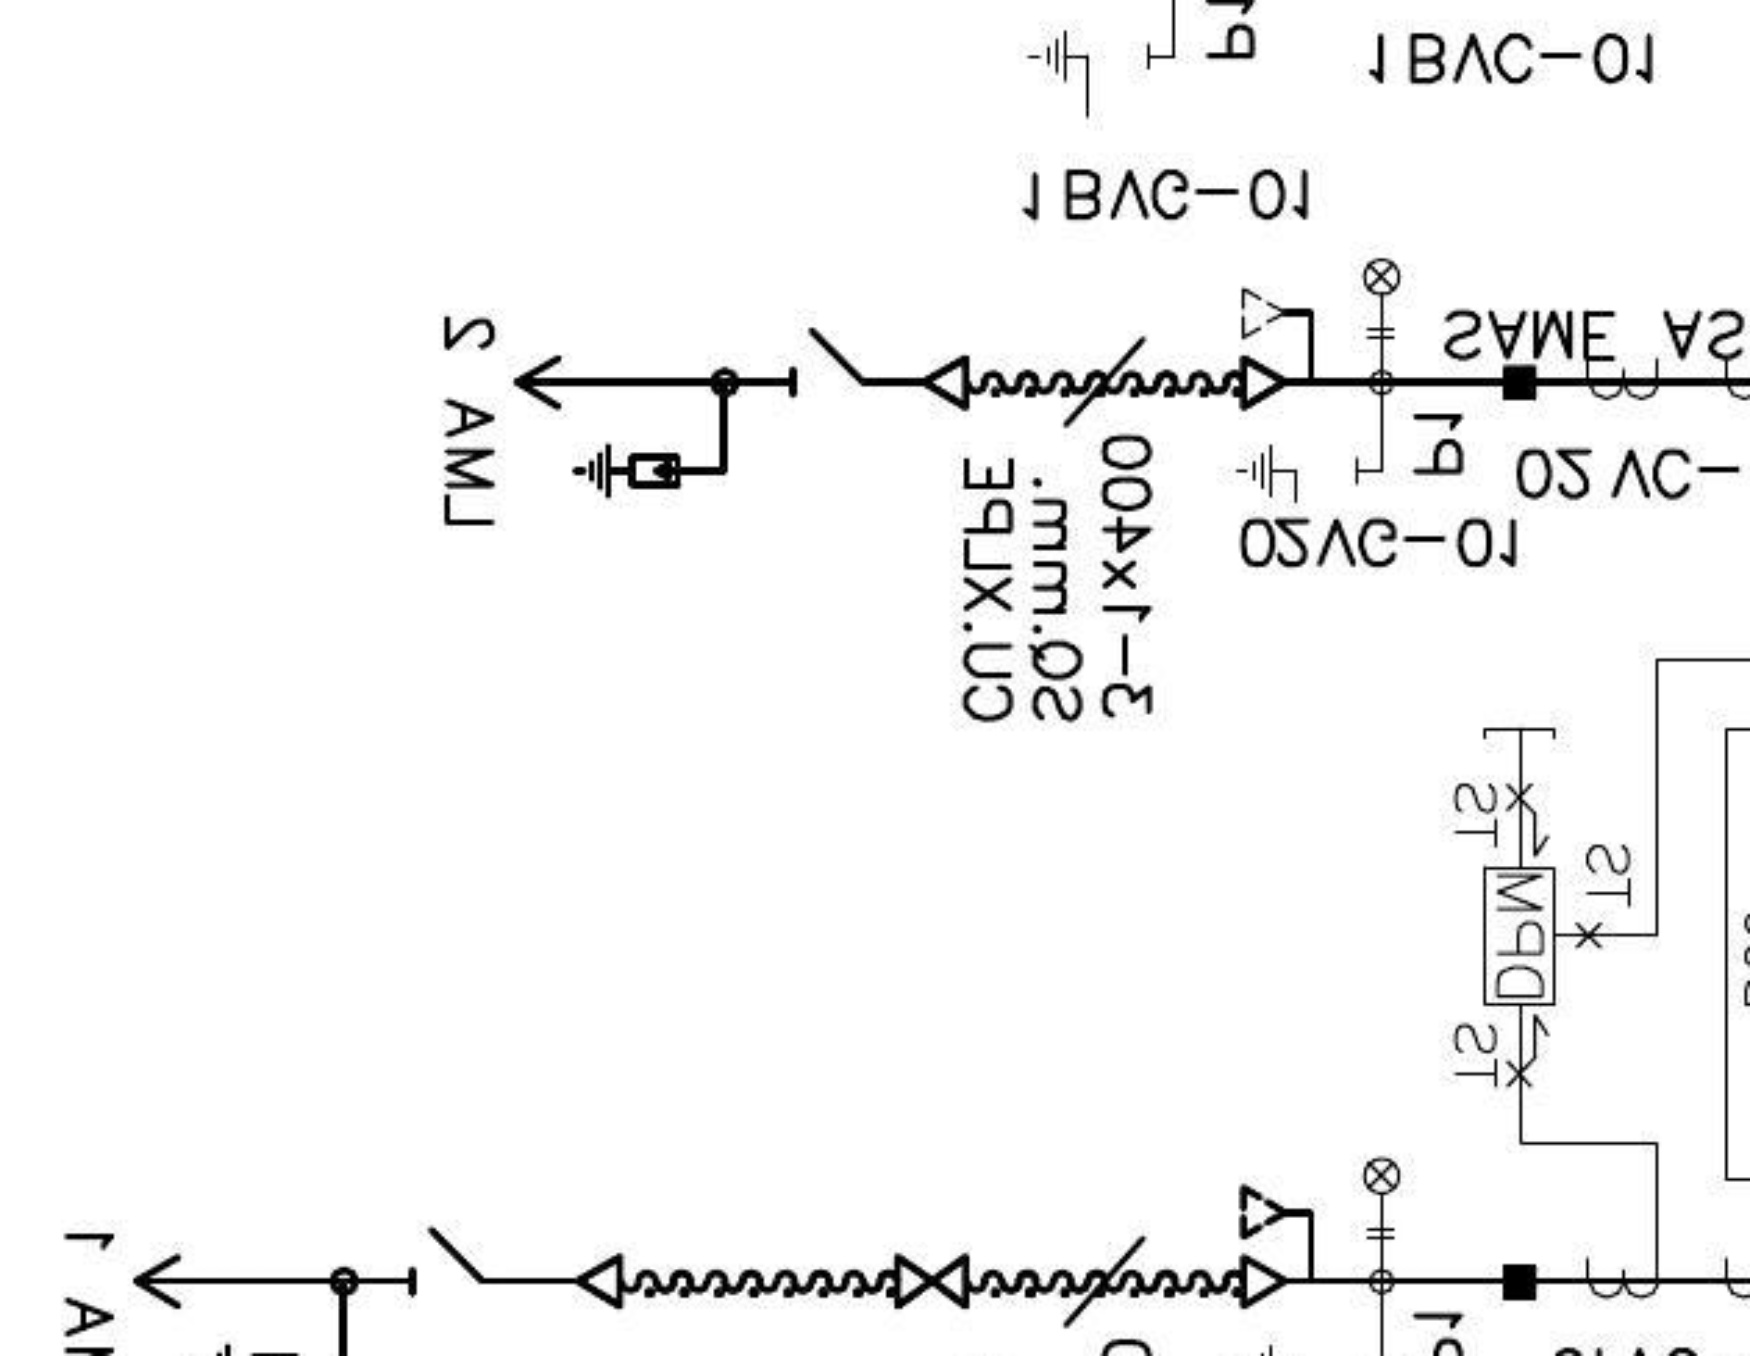22_ds_la_out: (510, 325, 866, 500)
22_gs: (1028, 26, 1155, 121), (1234, 440, 1362, 508)
22_ll: (1361, 1156, 1403, 1241), (1361, 256, 1402, 342)
DPM: (1479, 862, 1558, 1010)
terminator_single: (920, 351, 973, 415), (575, 1250, 626, 1312)
terminator_splicing_kits: (893, 1252, 972, 1311)
terminator_w_future: (1236, 283, 1318, 413), (1237, 1181, 1318, 1313)
